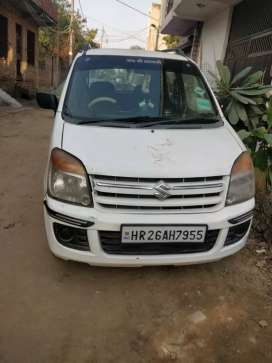license_plate: (119, 224, 209, 244)
